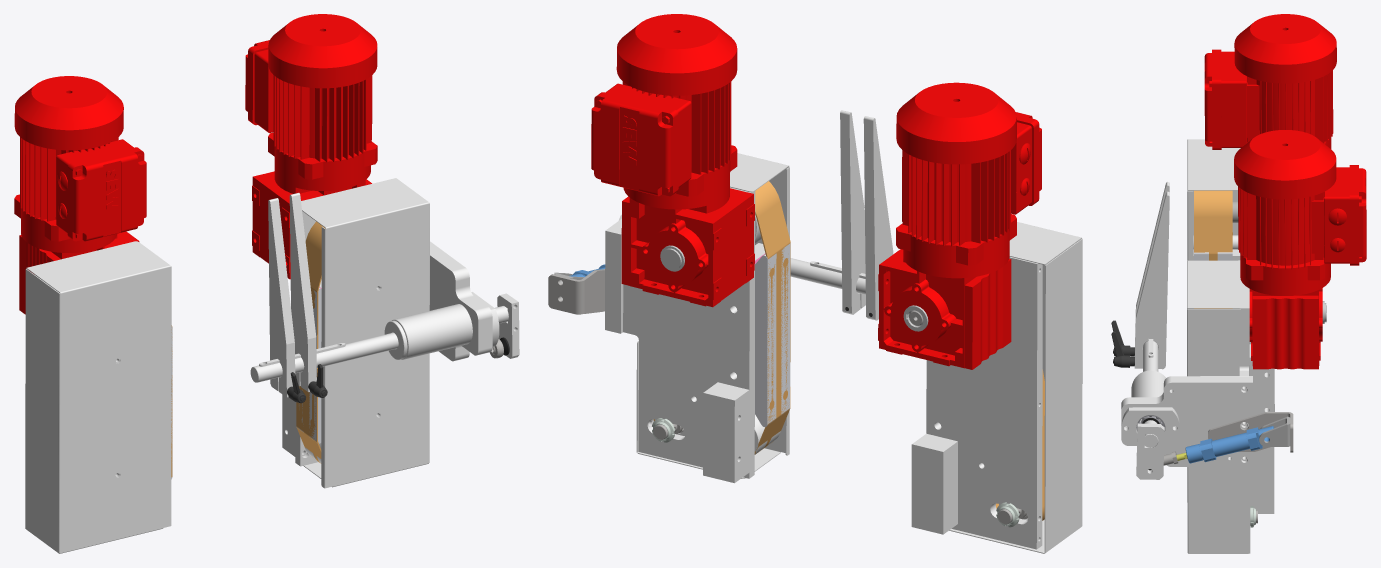
3 views of the same model, side by side, from view 1: azimuth 30°, elevation 25°; view 2: azimuth 150°, elevation 25°; view 3: azimuth 270°, elevation 25° (orthographic). The views are drawn at different scales.
Parts seen in each view (by area): view 1: Solido2 (×14); view 2: Solido2 (×15); view 3: Solido2 (×17).
Part boxes in pixels (x1,y1,x2,y2): Solido2 (×14): [14, 14, 519, 553]; Solido2 (×15): [548, 14, 1082, 553]; Solido2 (×17): [1111, 14, 1366, 553].
Bounding box in the file's own units: 0.6054 × 0.5474 × 0.3291.
